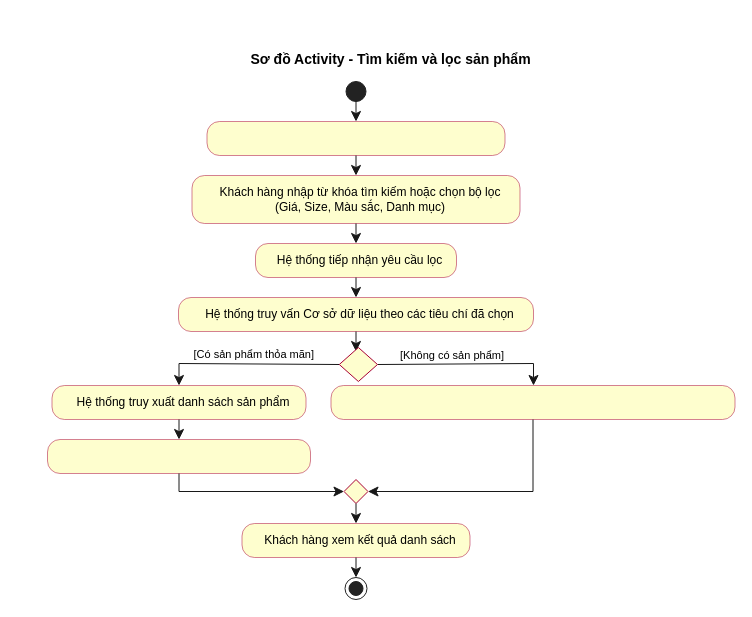
Some shapes in this 752 by 617 pixel diagram are drawn without their labels. Here are the shapes that lost their labels. From the top down, the centre of each, then its label:
the point at 355,138: Khách hàng truy cập trang Danh mục sản phẩm
the point at 532,402: Hệ thống hiển thị thông báo "Không tìm thấy sản phẩm phù hợp"
the point at 178,456: Hiển thị danh sách kết quả lên màn hình
